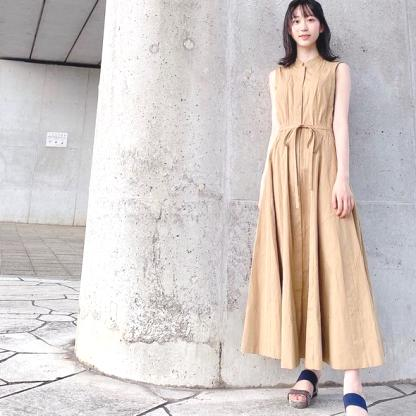jacket: (242, 58, 385, 369)
